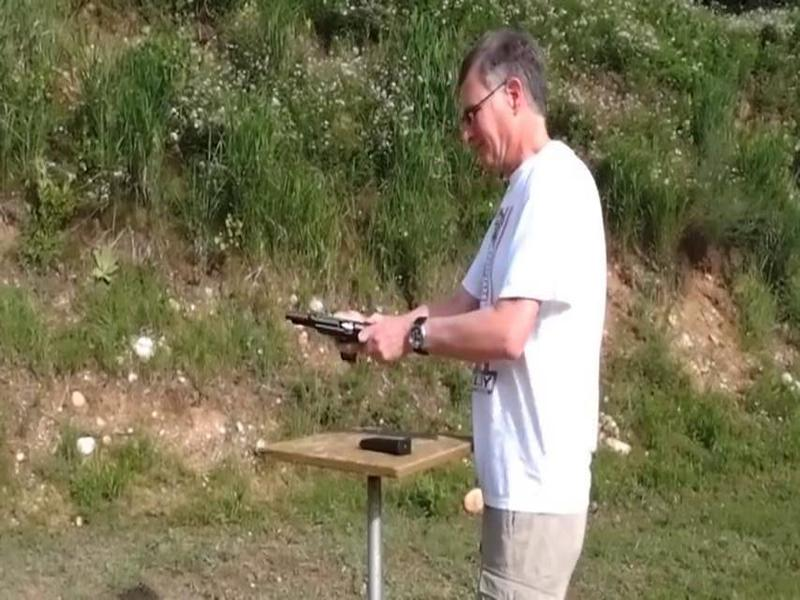Pistola: (280, 293, 384, 380)
